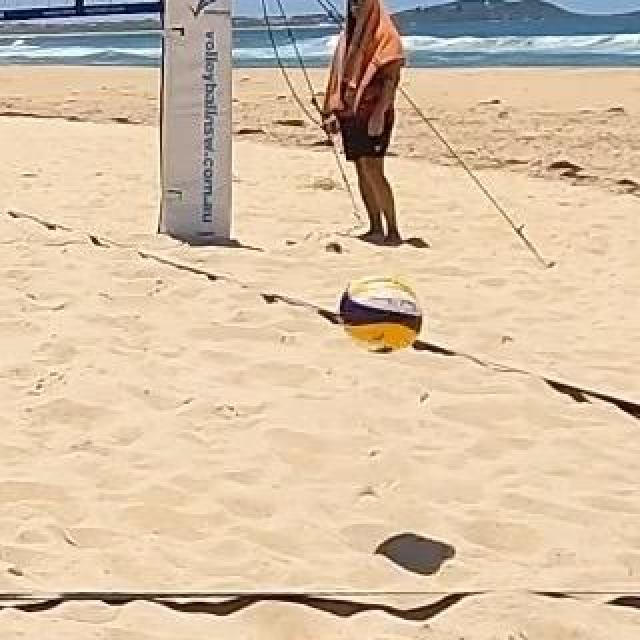volleyball: (337, 274, 423, 356)
